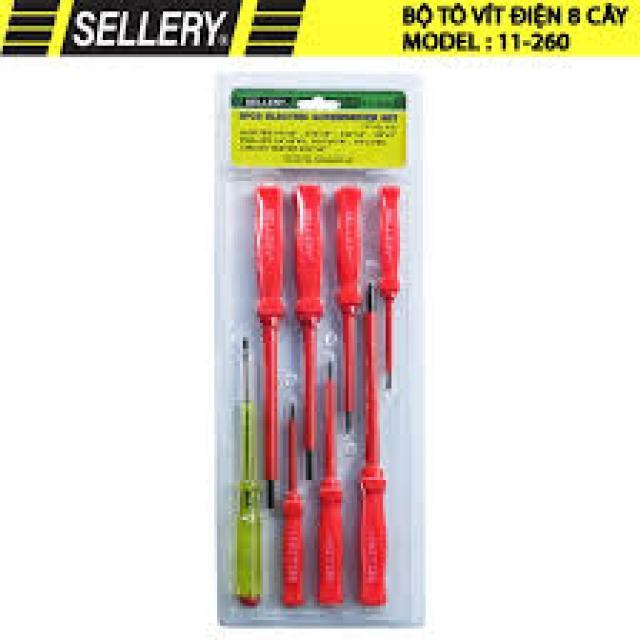screwdriver: (220, 336, 269, 616), (254, 181, 289, 516), (290, 180, 327, 486), (356, 279, 390, 610), (313, 357, 350, 612), (330, 180, 364, 434), (278, 402, 308, 607), (374, 180, 402, 394)
